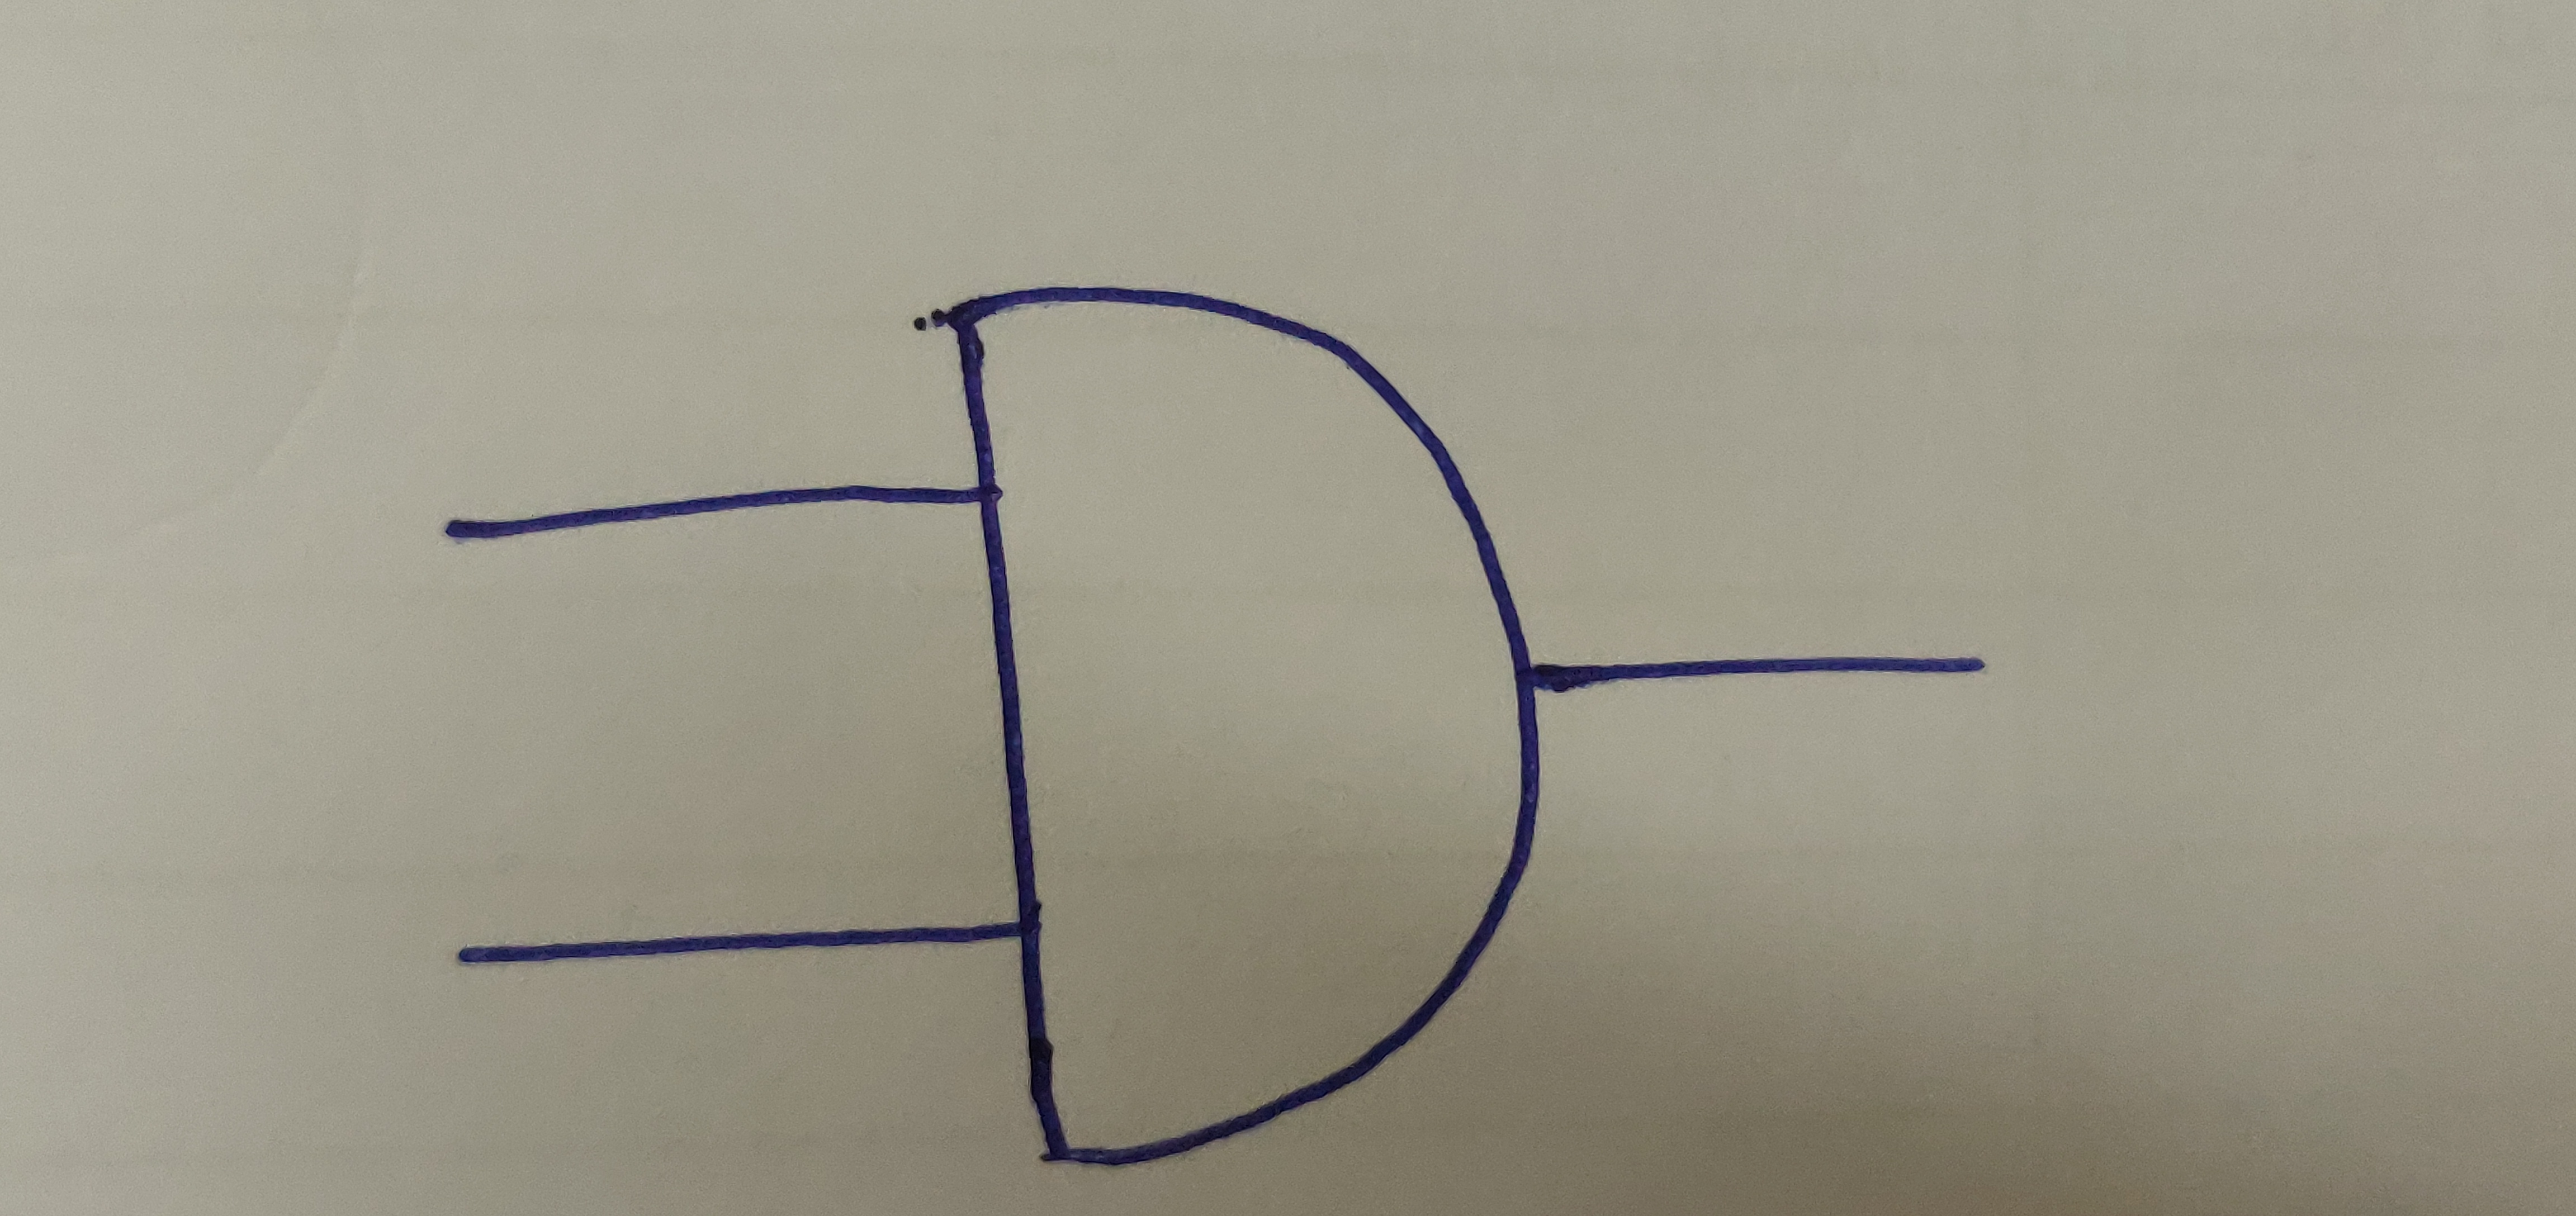and: (928, 289, 1544, 1165)
